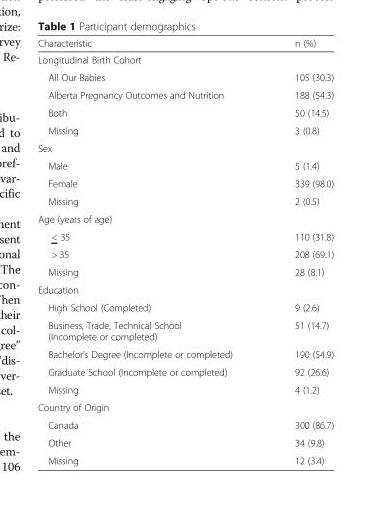table: (37, 37, 333, 465)
table column: (37, 37, 262, 465), (262, 37, 333, 465)
table column header: (37, 37, 333, 50)
table projected row header: (37, 50, 333, 68), (37, 138, 333, 156), (37, 209, 333, 227), (37, 280, 333, 298), (37, 398, 333, 415)
table row: (37, 315, 333, 345), (37, 50, 333, 68), (37, 85, 333, 103), (37, 103, 333, 121), (37, 138, 333, 156), (37, 156, 333, 174), (37, 174, 333, 192), (37, 209, 333, 227), (37, 227, 333, 245), (37, 262, 333, 280), (37, 280, 333, 298), (37, 362, 333, 380), (37, 380, 333, 398), (37, 415, 333, 433), (37, 433, 333, 451), (37, 68, 333, 85), (37, 121, 333, 138), (37, 192, 333, 209), (37, 245, 333, 262), (37, 298, 333, 315), (37, 345, 333, 362), (37, 398, 333, 415), (37, 451, 333, 465), (37, 37, 333, 50)
